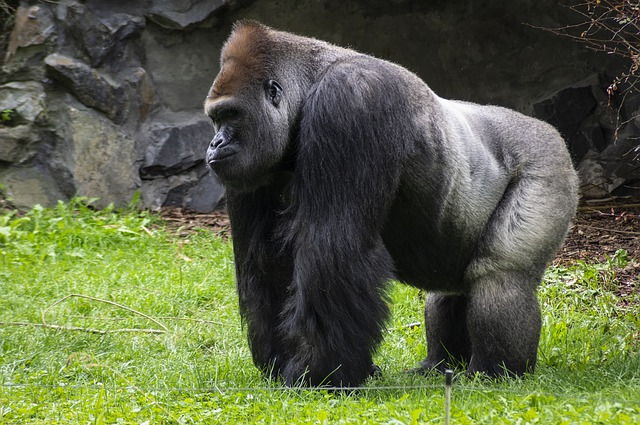wild: (200, 18, 314, 187)
